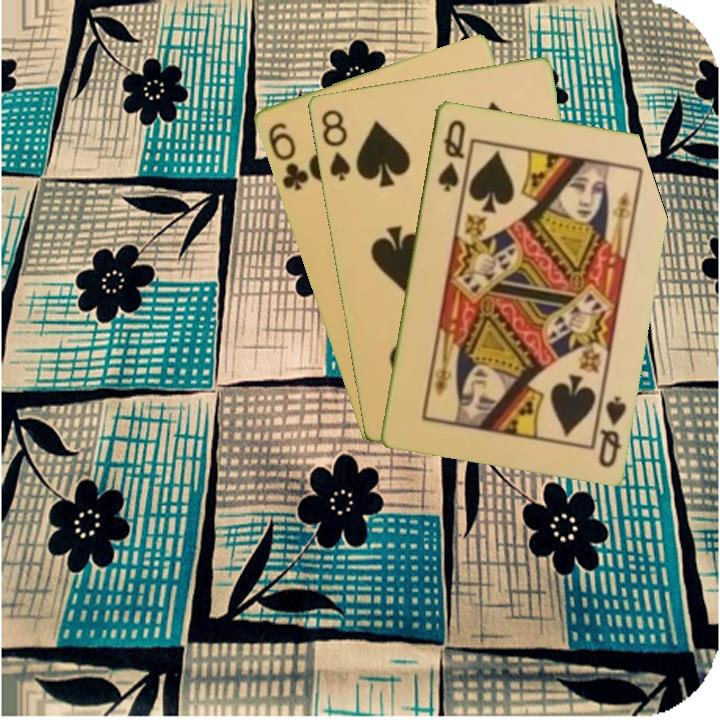6c: (264, 118, 311, 194)
8s: (317, 105, 353, 184)
Qs: (594, 392, 629, 470), (434, 115, 468, 194)
